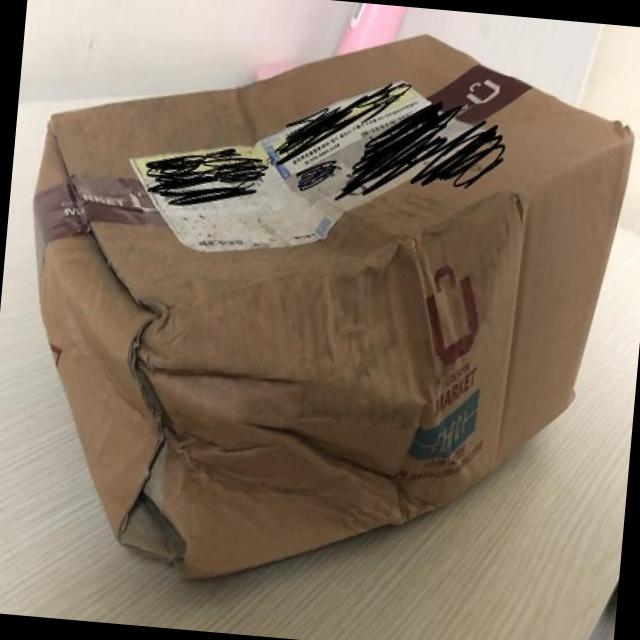box: (34, 32, 635, 585)
crushed: (348, 211, 514, 402), (162, 128, 369, 261), (116, 293, 210, 580), (36, 117, 142, 342), (238, 417, 422, 526)
